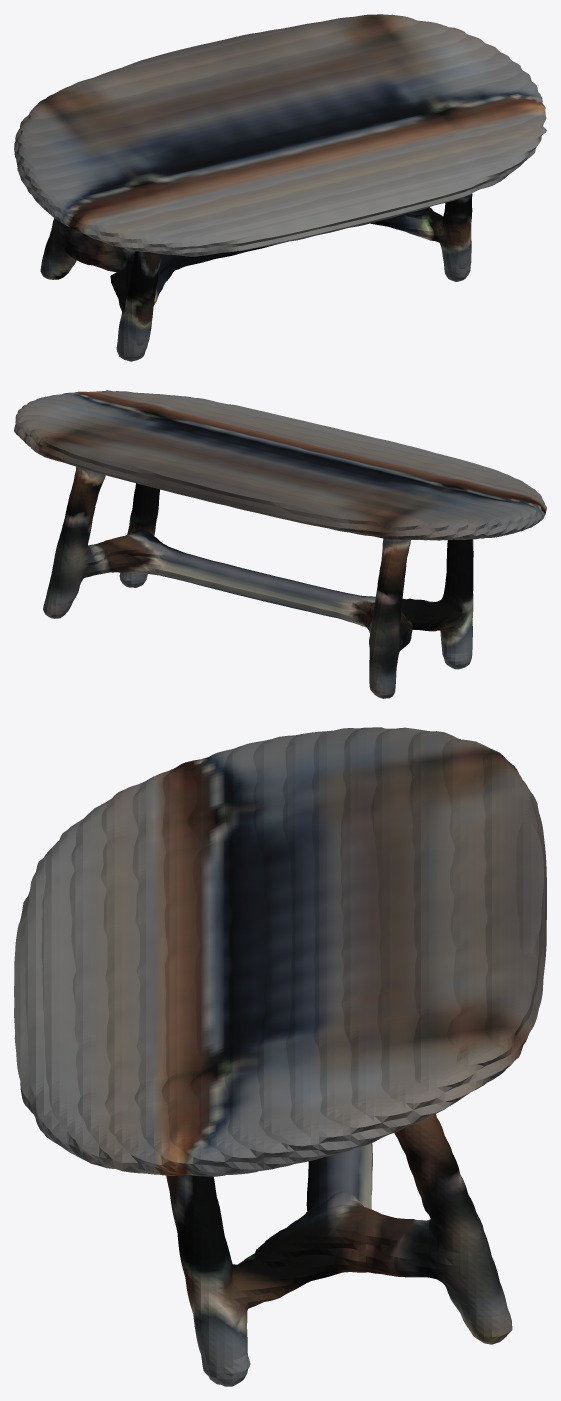
The model's file is table-001.glb.
The picture shows the model from 3 angles, top to bottom: view 1: azimuth 30°, elevation 25°; view 2: azimuth 150°, elevation 25°; view 3: azimuth 270°, elevation 25°; orthographic projection. The views are drawn at different scales.
Visible parts, largest first — view 1: geometry_0; view 2: geometry_0; view 3: geometry_0.
Boxes of the visible parts, x1,y1,x2,y2 form: geometry_0: (14,14,546,361); geometry_0: (14,390,546,698); geometry_0: (14,727,546,1386).
Bounding box in the file's own units: 110 × 45 × 60.
